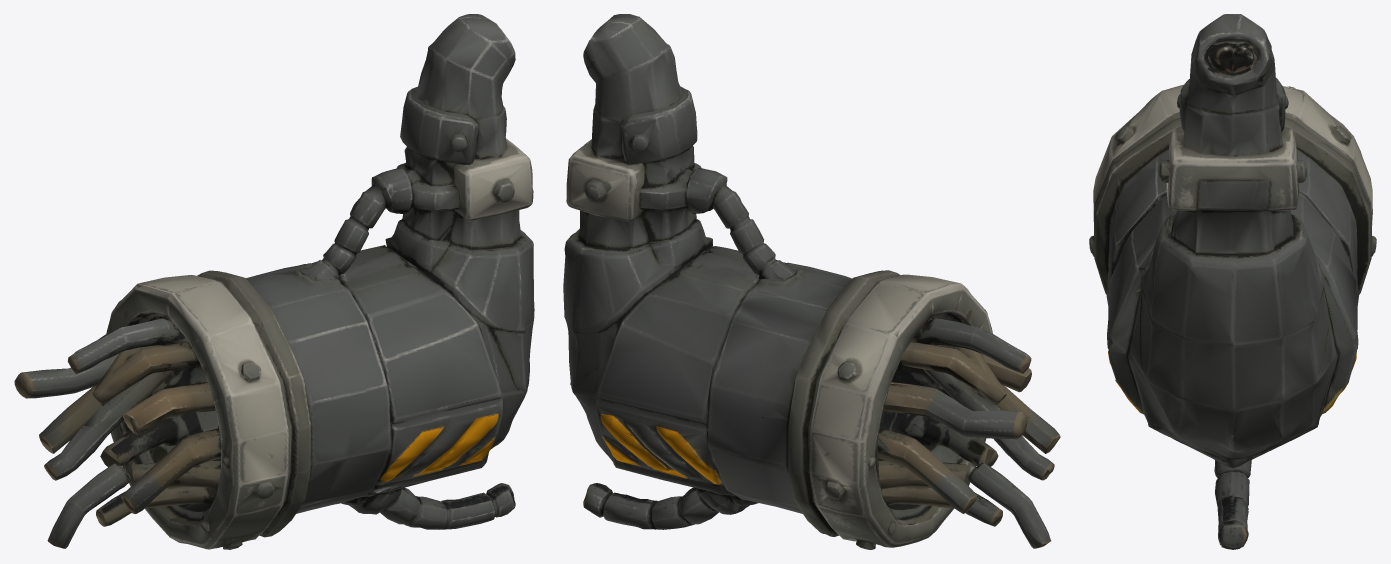
The model's file is 03_power_conduit_right.fbx.
3 renders of one model, left to right at view 1: azimuth 30°, elevation 25°; view 2: azimuth 150°, elevation 25°; view 3: azimuth 270°, elevation 25°, orthographic. The views are drawn at different scales.
Visible parts, largest first — view 1: 03_power_conduit_right; view 2: 03_power_conduit_right; view 3: 03_power_conduit_right.
Part boxes in pixels (box(x1,y1,x2,y2)): 03_power_conduit_right: box(14, 14, 534, 549); 03_power_conduit_right: box(563, 14, 1060, 549); 03_power_conduit_right: box(1089, 14, 1376, 549).
Bounding box in the file's own units: 2.18 × 2.2 × 1.1.
Materials: 1 (1 with a texture image).
